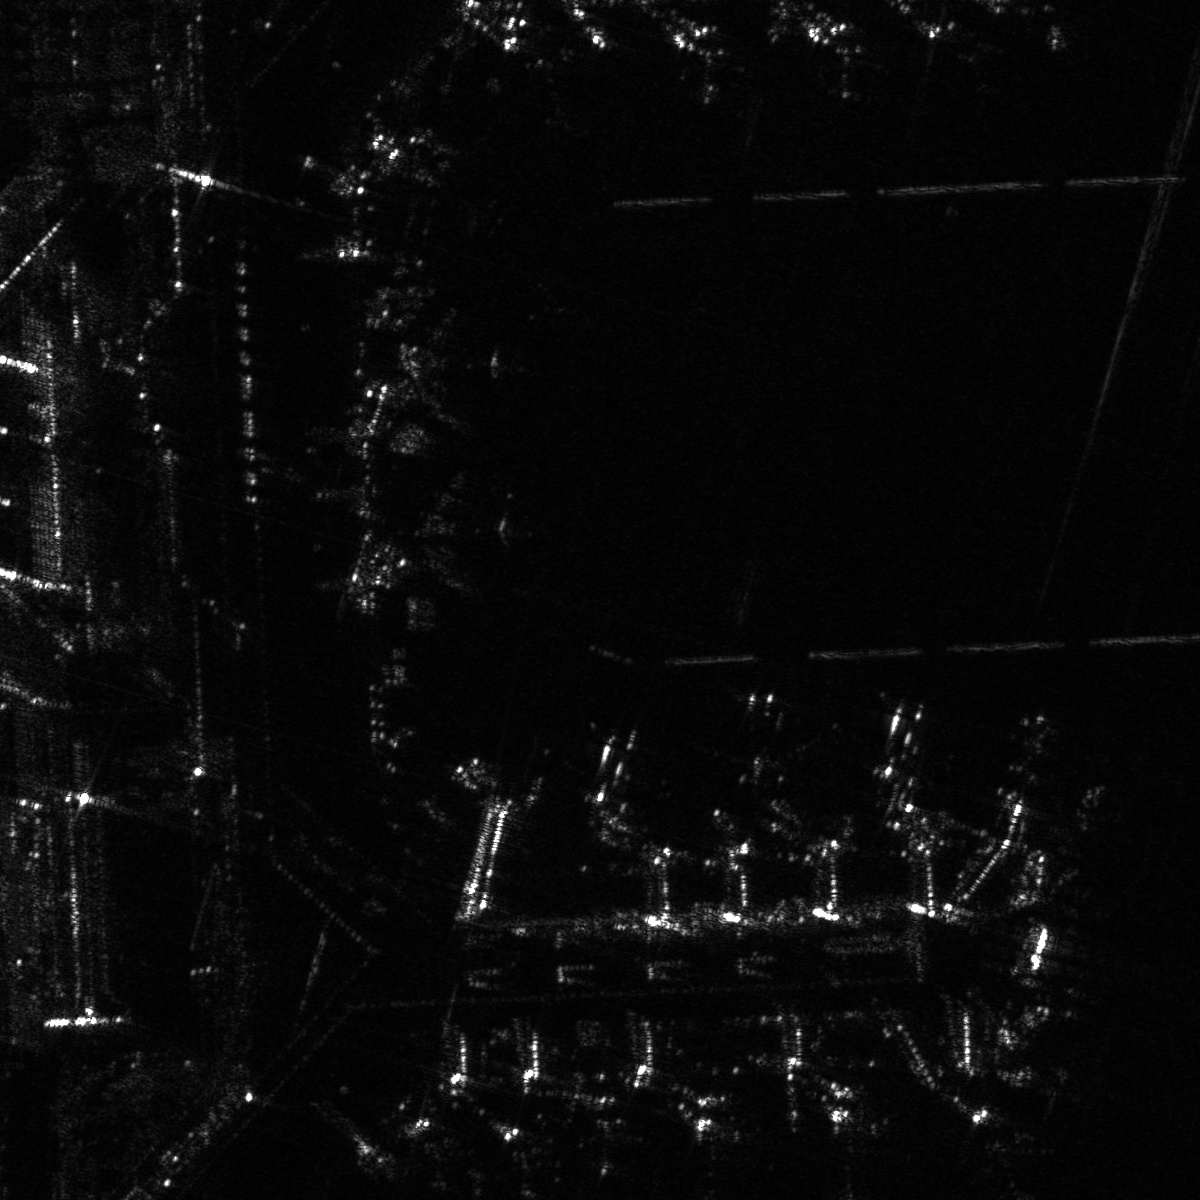A220: (981, 703, 1084, 809), (563, 1113, 651, 1195), (1074, 784, 1129, 830)
A320/321: (354, 462, 554, 611), (343, 299, 518, 438), (527, 719, 684, 816), (840, 698, 967, 795), (800, 8, 890, 107)
A330: (384, 129, 516, 237)
Boeing737: (949, 1096, 1066, 1199), (913, 12, 998, 74), (484, 1137, 565, 1199)
Boeing787: (659, 1115, 776, 1199), (670, 13, 752, 119)
other: (684, 681, 838, 789), (797, 1100, 897, 1199), (521, 51, 603, 135)
